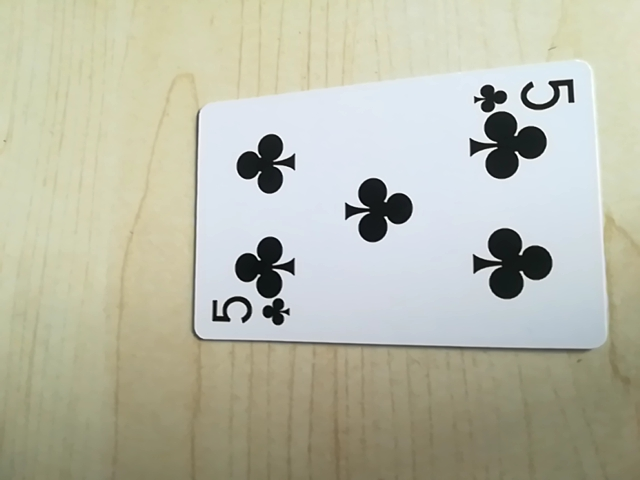mh 5: (469, 73, 578, 114), (206, 292, 292, 332)
